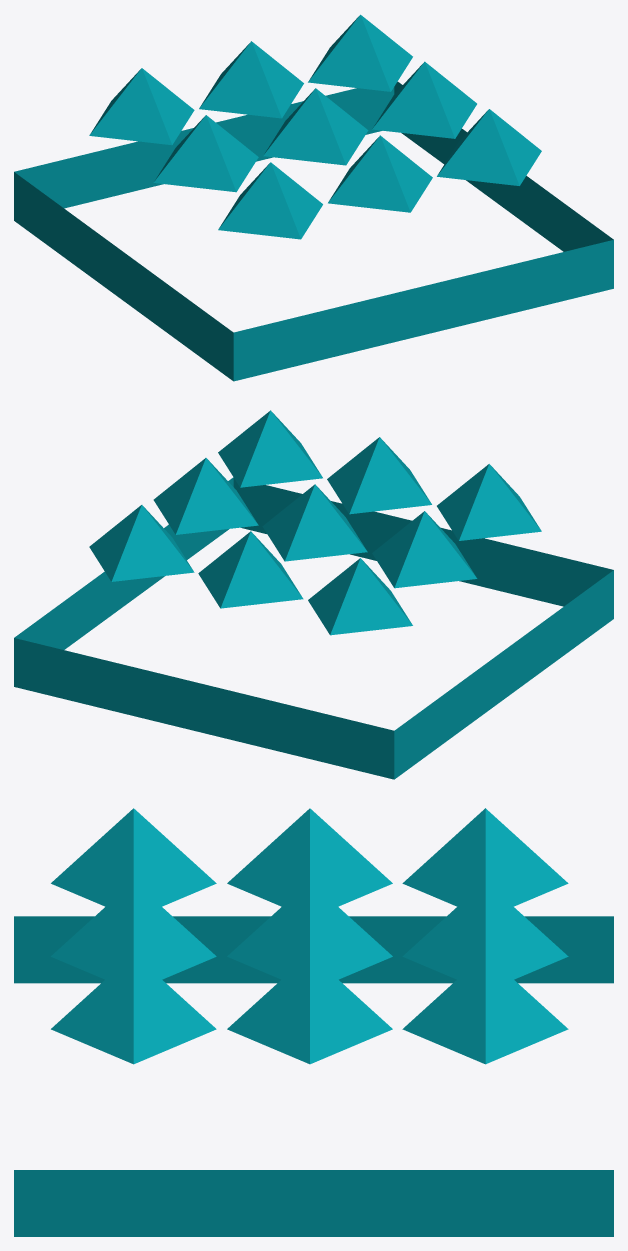
The model's file is Spikes.fbx.
3 renders of one model, top to bottom at view 1: azimuth 30°, elevation 25°; view 2: azimuth 150°, elevation 25°; view 3: azimuth 270°, elevation 25°, orthographic. The views are drawn at different scales.
Visible parts, largest first — view 1: SpikedPlatform; view 2: SpikedPlatform; view 3: SpikedPlatform.
Boxes of the visible parts, <box> form: SpikedPlatform: <box>14,14,613,381</box>; SpikedPlatform: <box>14,410,613,779</box>; SpikedPlatform: <box>14,808,613,1236</box>.
Size of the model in its own units: 0.9463 by 0.3985 by 0.9463.
